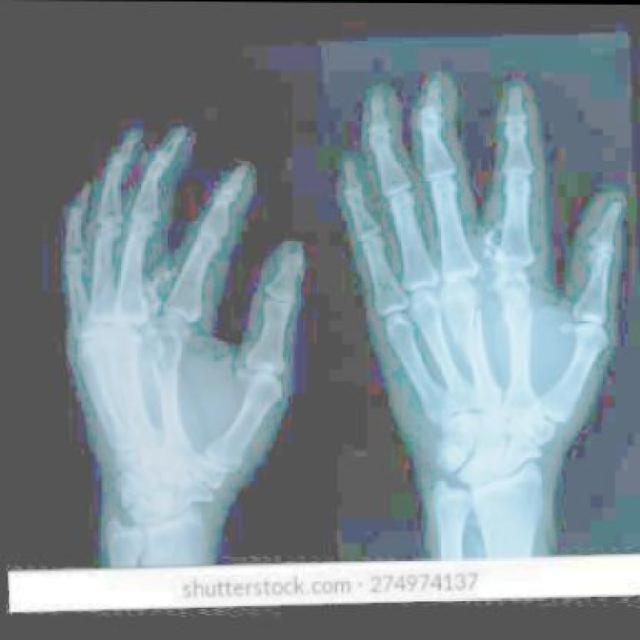Fracture: (448, 306, 496, 357), (114, 345, 148, 385)
